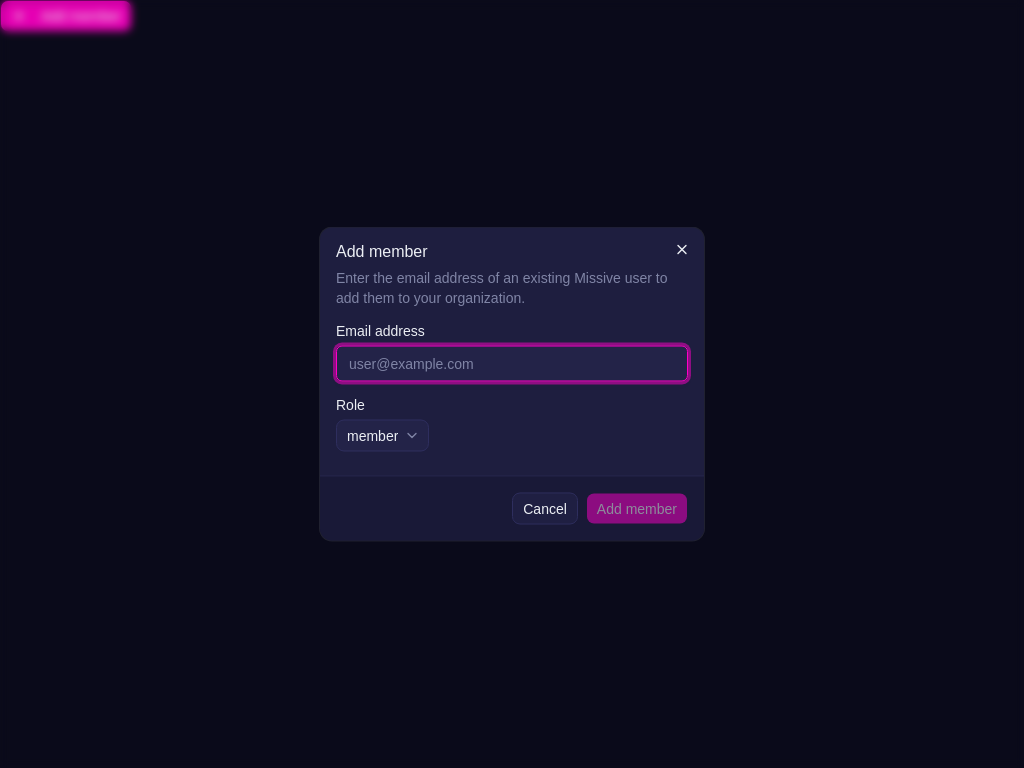
Test: AddMemberDialog › 'Owner' role option is present when isOwner=true
Click the dropdown: [383, 436] box x1=336 y1=420 x2=429 y2=452
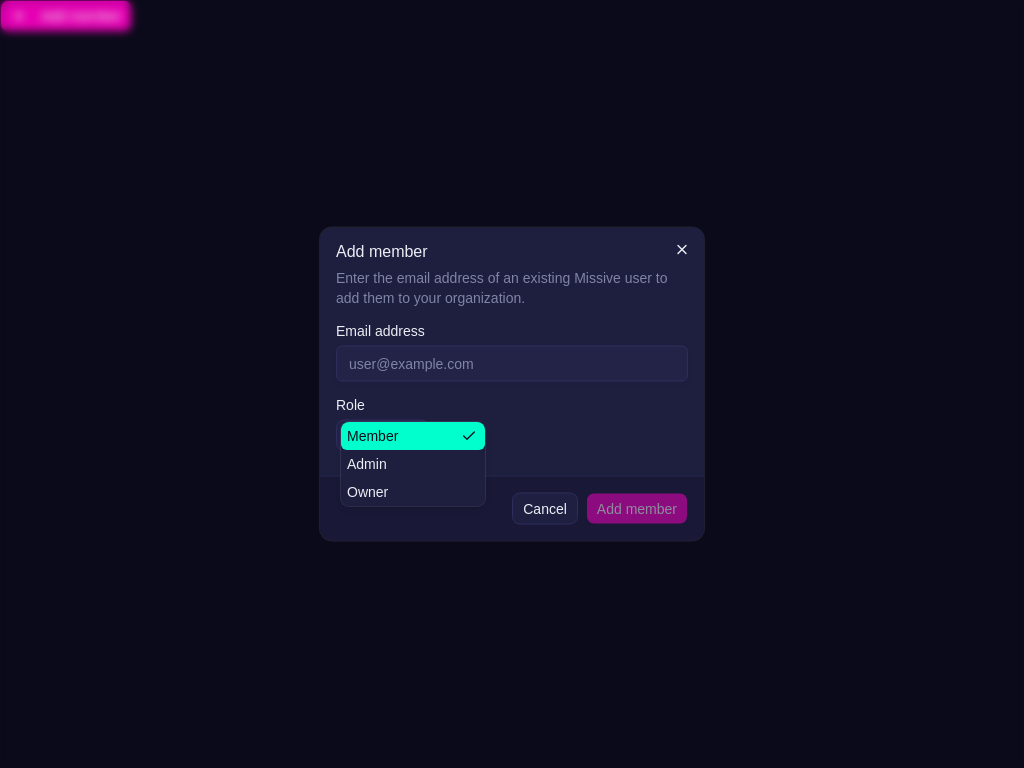
Check: the option "Owner" is shown, box x1=347 y1=484 x2=388 y2=500
